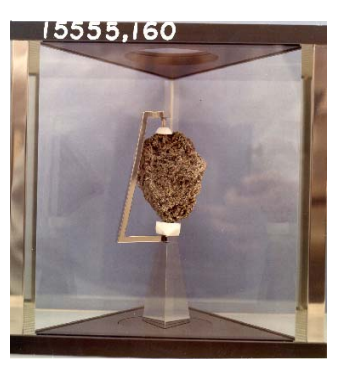Basalt: (138, 124, 211, 219)
